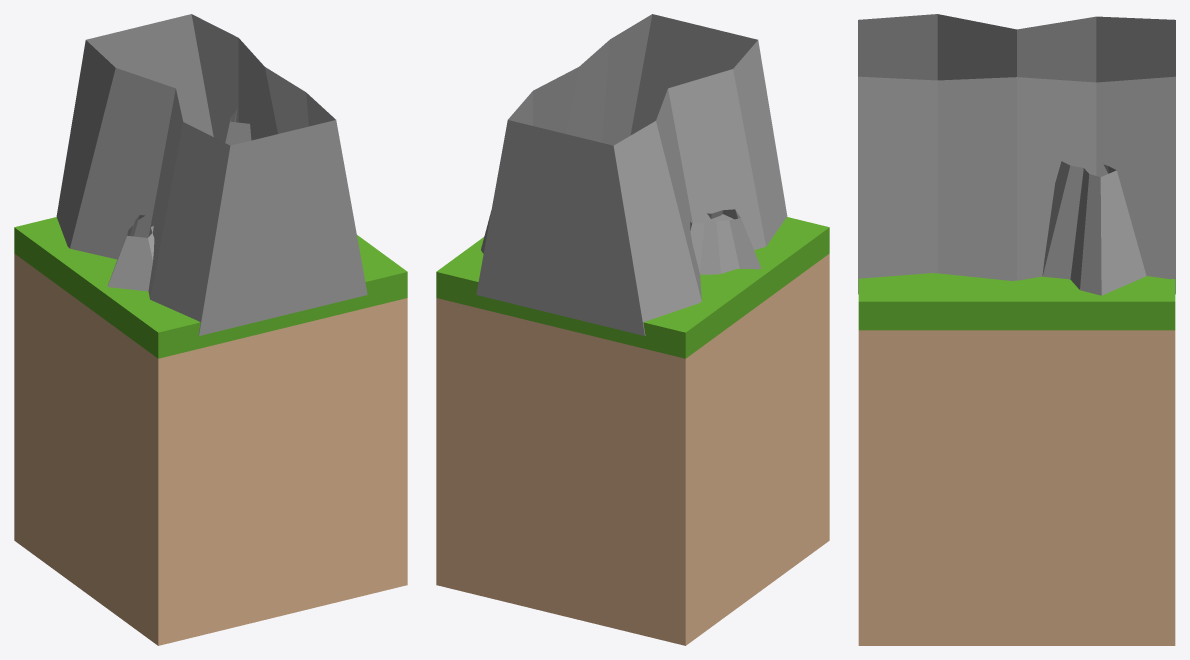
The model's file is Mountains2_1.fbx.
3 views of the same model, side by side, from view 1: azimuth 30°, elevation 25°; view 2: azimuth 150°, elevation 25°; view 3: azimuth 270°, elevation 25° (orthographic). The views are drawn at different scales.
Visible parts, largest first — view 1: Cube, Cylinder; view 2: Cube, Cylinder; view 3: Cube, Cylinder.
Part boxes in pixels (x1,y1,x2,y2): Cube: (14, 217, 407, 645); Cylinder: (56, 14, 367, 335); Cube: (436, 217, 829, 645); Cylinder: (476, 14, 787, 335); Cube: (858, 273, 1175, 645); Cylinder: (858, 14, 1175, 295).
Size of the model in its own units: 100 by 185 by 100.
